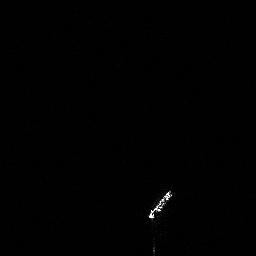ship: (143, 186, 177, 221)
